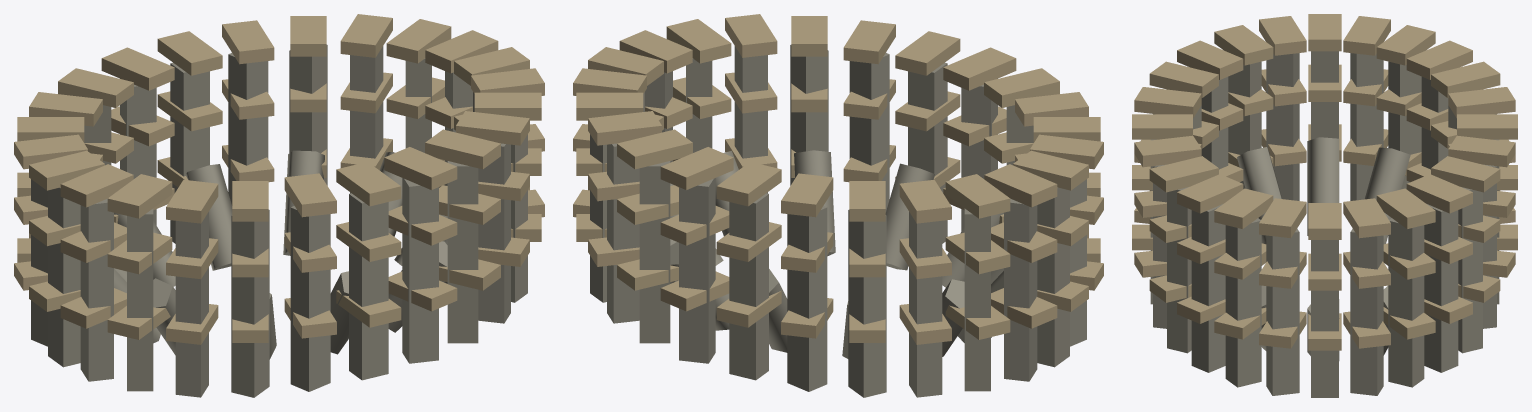
Rendered from custom-wonder-kolezyum.glb.
3 views of the same model, side by side, from view 1: azimuth 30°, elevation 25°; view 2: azimuth 150°, elevation 25°; view 3: azimuth 270°, elevation 25° (orthographic). The views are drawn at different scales.
Parts seen in each view (by area): view 1: custom-wonder-kolezyum; view 2: custom-wonder-kolezyum; view 3: custom-wonder-kolezyum.
Boxes of the visible parts, bbox=[...] form: custom-wonder-kolezyum: bbox=[14, 14, 544, 397]; custom-wonder-kolezyum: bbox=[573, 14, 1103, 397]; custom-wonder-kolezyum: bbox=[1132, 14, 1517, 397].
Size of the model in its own units: 1 by 0.3961 by 0.76.
